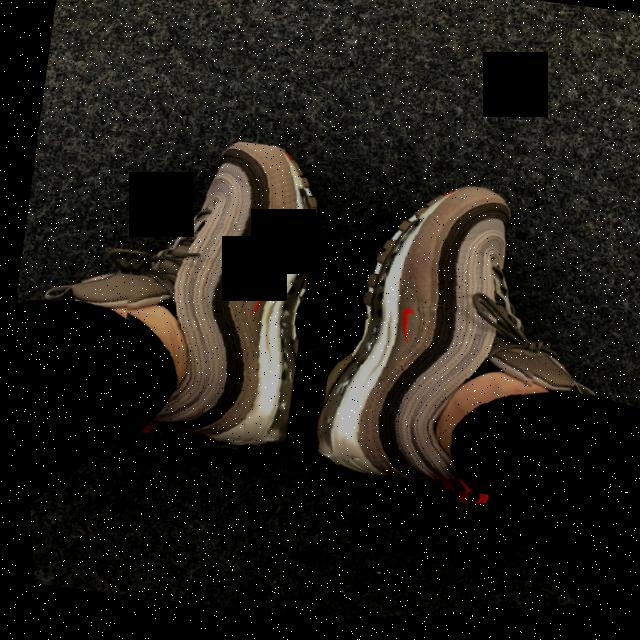shoe: (294, 163, 577, 517), (77, 121, 336, 473)
